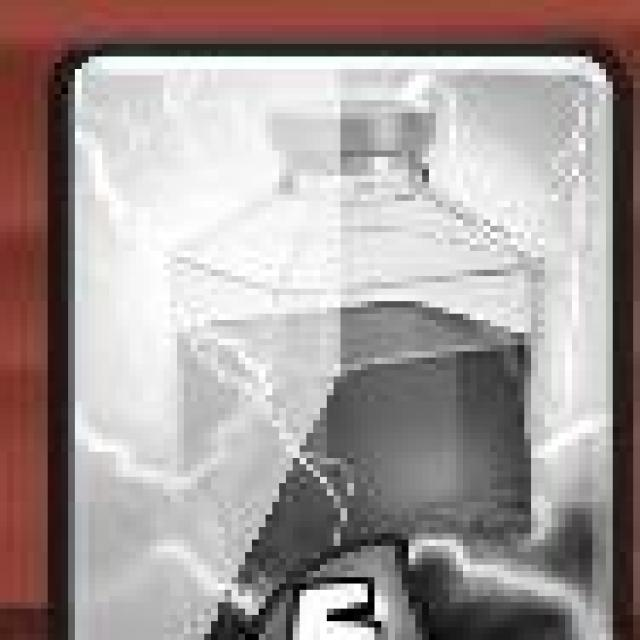Lightning: (48, 45, 630, 640)
